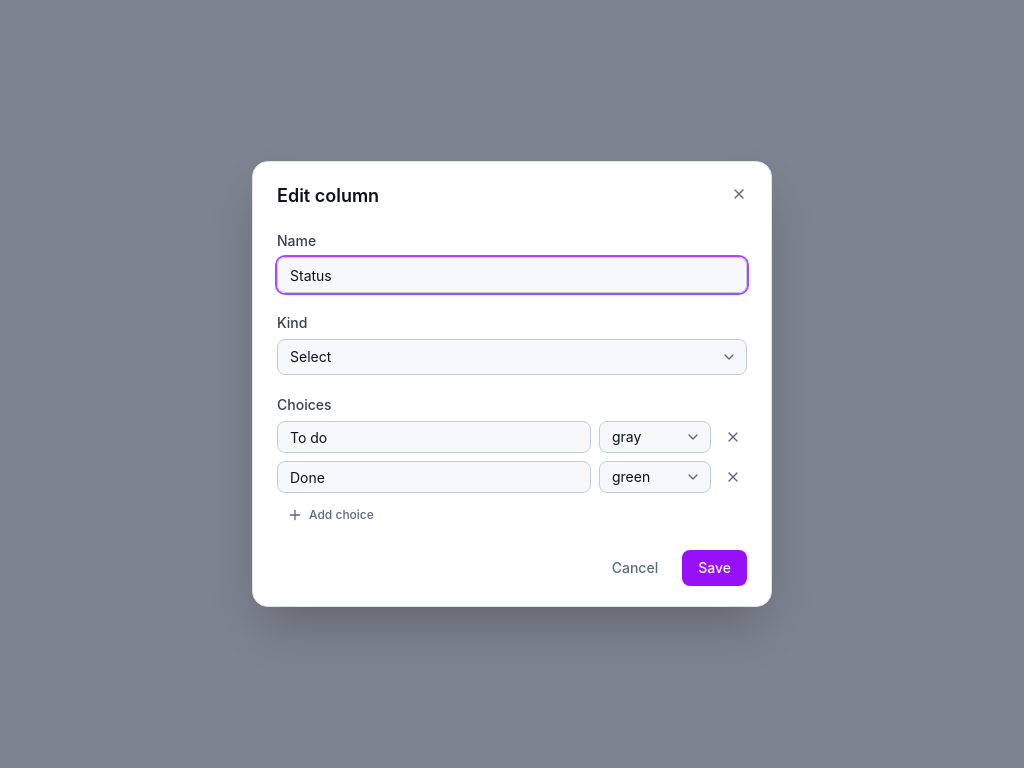
Test: ColumnDialog › shows the server refusal and asks again
Select "Text" in the dropdown with test id "list-column-kind" at (512, 357), box [277,339,747,375]
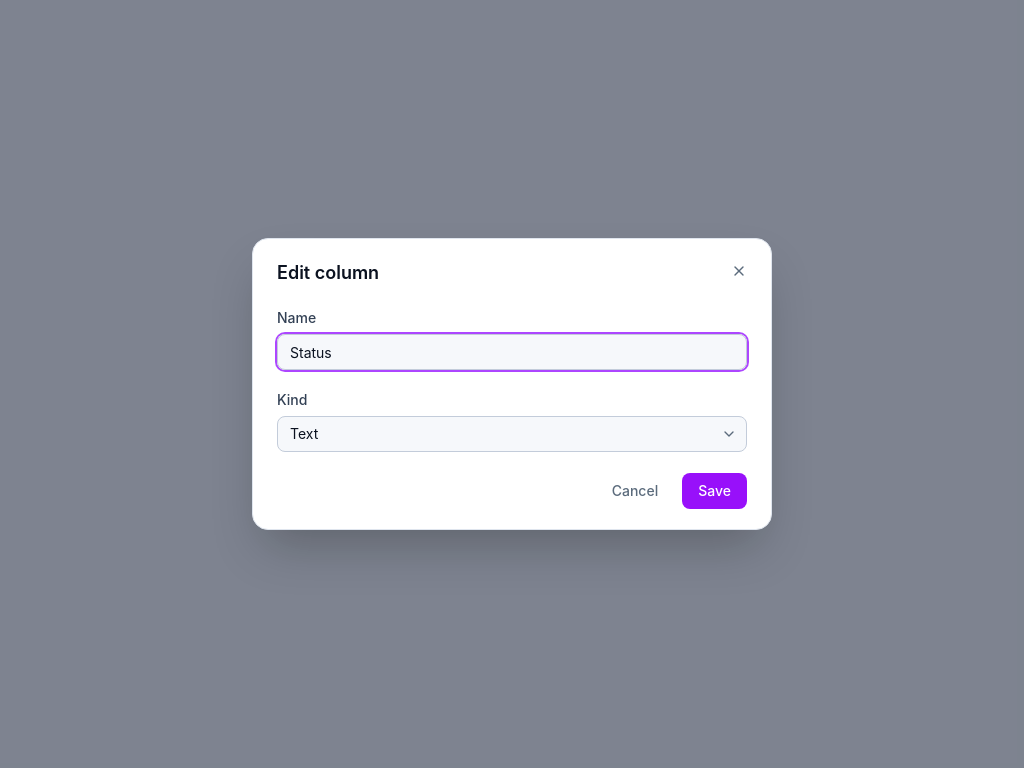
Click the button with test id "list-column-save" at (715, 491), box [682,473,747,509]
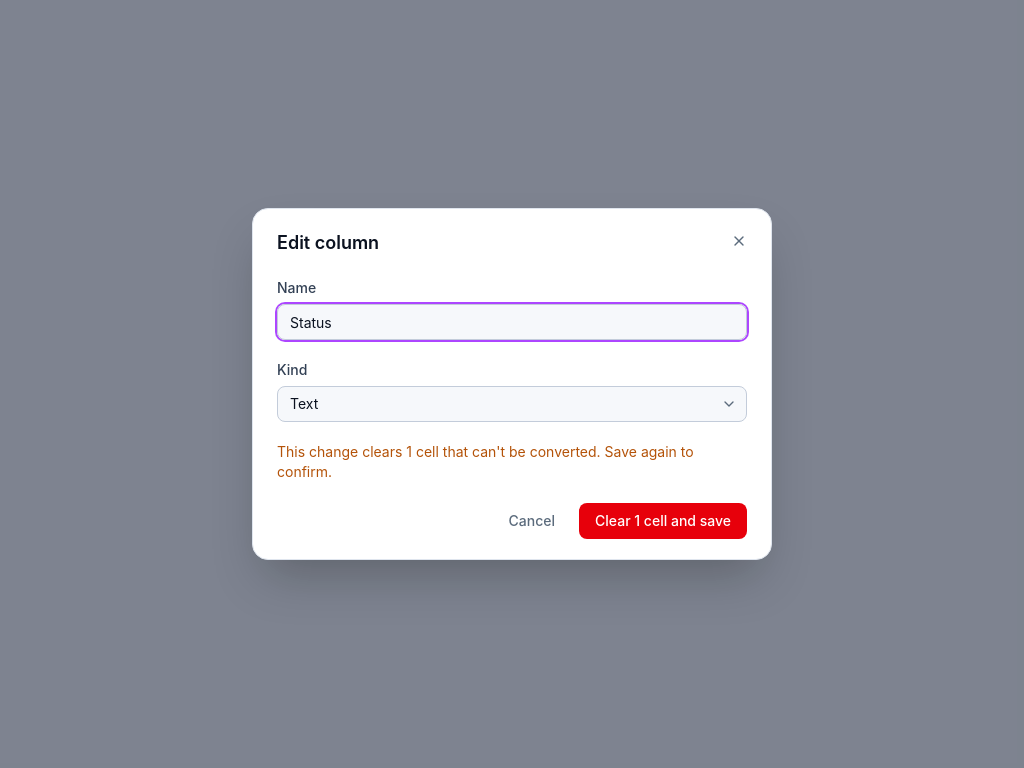
Now the message "This change clears 1 cell that can't be converted. Save again to confirm." is shown, box [277,442,747,482]
Click the button with test id "list-column-save" at (663, 521), box [579,503,747,539]
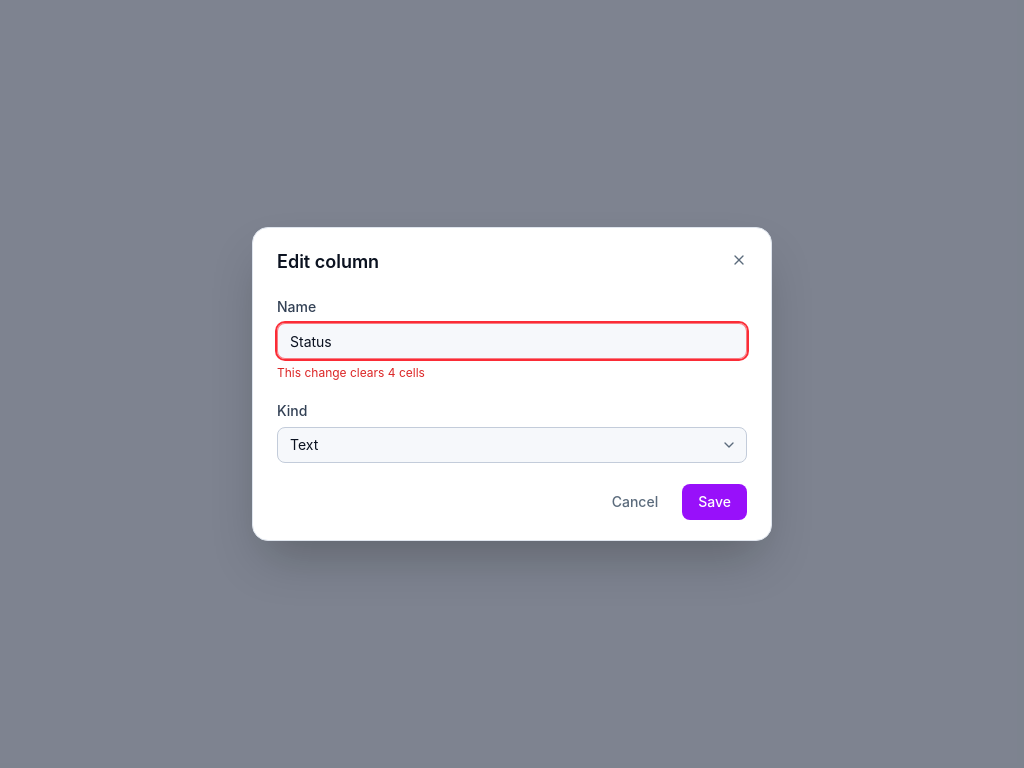
Now the text "This change clears 4 cells" is shown, box [277,365,425,380]
Now the message with test id "list-column-clearing" is gone
